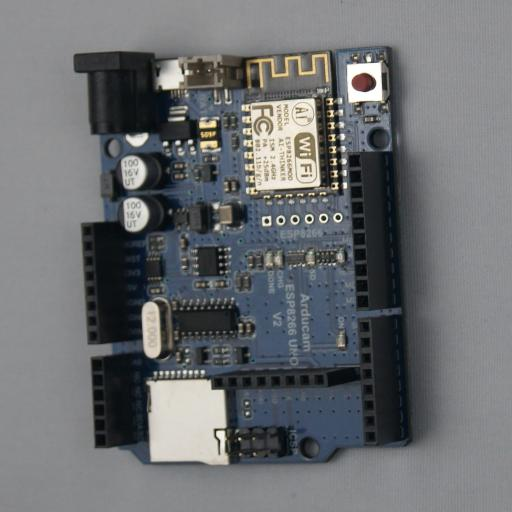Arduino Uno Camera Shield: (73, 46, 437, 466)
